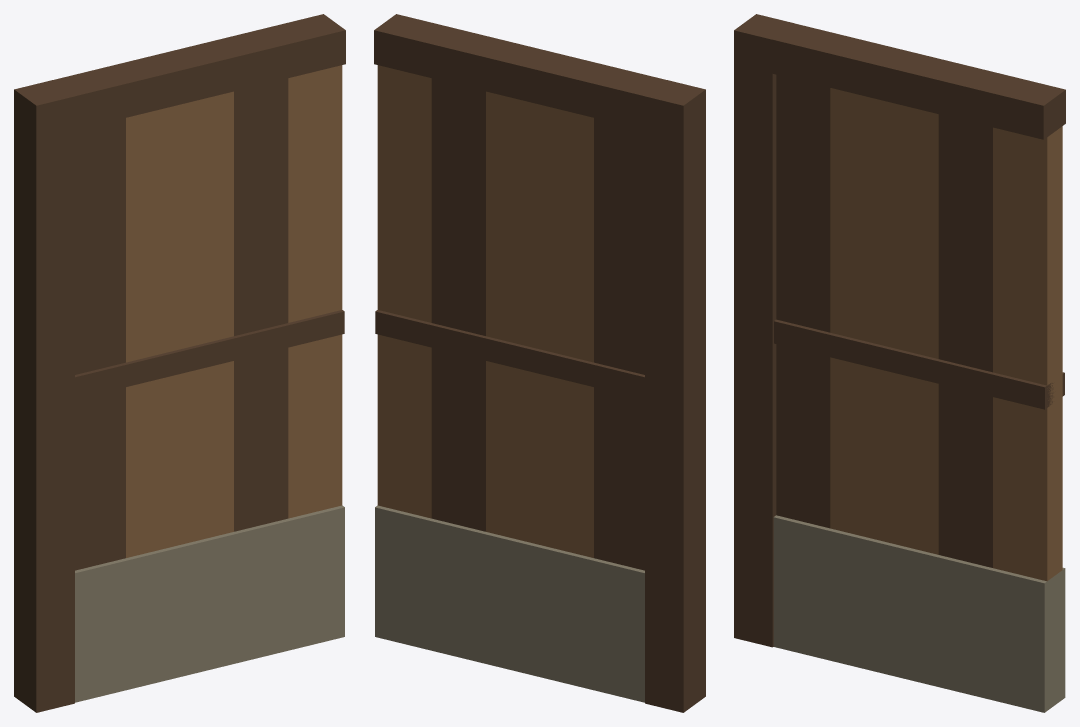
The model's file is boarded_byre_bay.glb.
The picture shows the model from 3 angles, left to right: view 1: azimuth 30°, elevation 25°; view 2: azimuth 150°, elevation 25°; view 3: azimuth 330°, elevation 25°; orthographic projection.
Visible parts, largest first — view 1: Boarded byre bay; view 2: Boarded byre bay; view 3: Boarded byre bay.
Boxes of the visible parts, <box> form: Boarded byre bay: <box>14,14,345,712</box>; Boarded byre bay: <box>374,14,705,712</box>; Boarded byre bay: <box>734,14,1065,712</box>.
Size of the model in its own units: 1 by 1.88 by 0.125.
